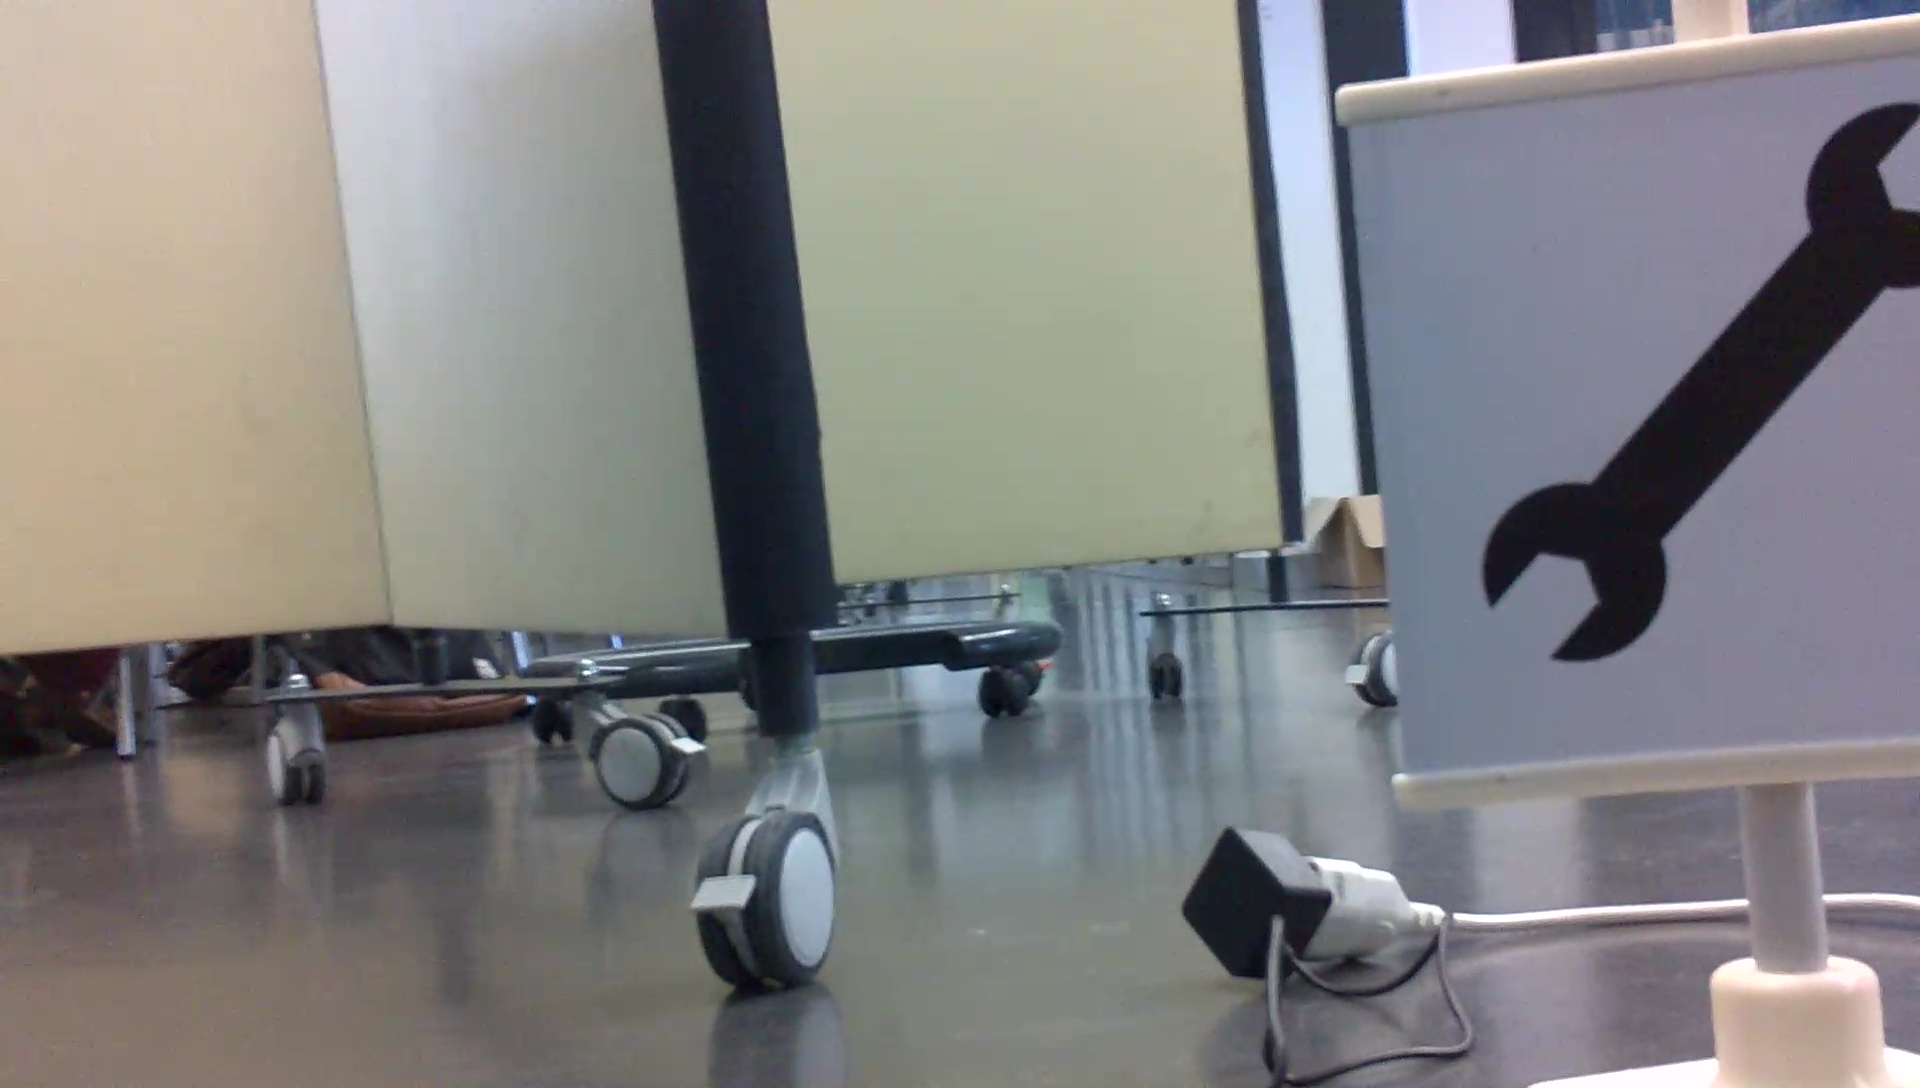wrench: (1474, 95, 1920, 678)
